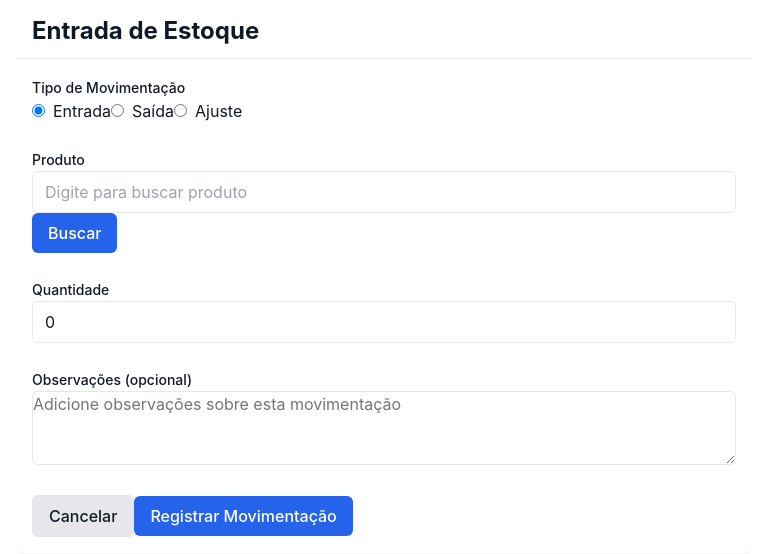
Test case: InventoryMovementView › Page Title › should update title when movement type changes to saida
Click the radio button labelled "Saída" at point(118, 110), box [111,104,124,117]
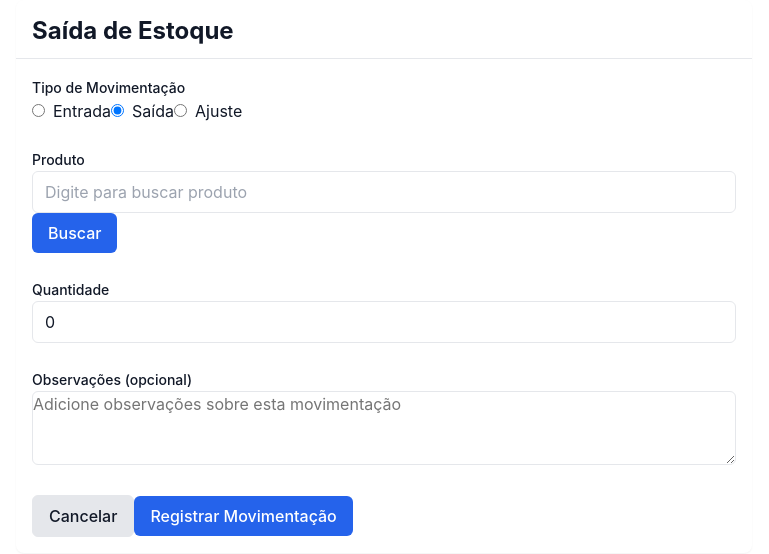
Expected: the text "Saída de Estoque" is shown, [32,16,234,45]
